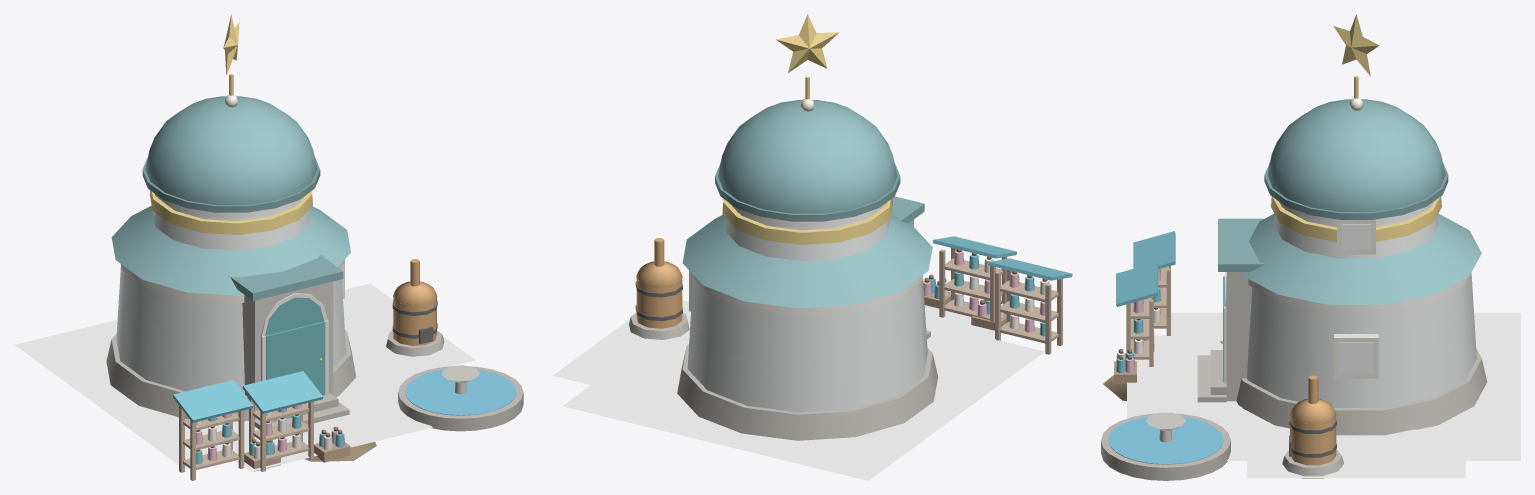
File: spa_4.glb
The picture shows the model from 3 angles, left to right: view 1: azimuth 30°, elevation 25°; view 2: azimuth 150°, elevation 25°; view 3: azimuth 270°, elevation 25°; orthographic projection. The views are drawn at different scales.
Visible parts, largest first — view 1: body4, spa_4, body3, body2, body; view 2: body4, spa_4, body3, body2, body; view 3: body4, spa_4, body3.
Part boxes in pixels (<box>): body4: <box>106,15,523,480</box>; spa_4: <box>15,283,475,471</box>; body3: <box>196,404,350,471</box>; body2: <box>196,414,301,444</box>; body: <box>196,433,301,464</box>; body4: <box>629,14,1072,440</box>; spa_4: <box>552,300,1044,480</box>; body3: <box>923,249,1049,330</box>; body2: <box>954,272,1045,315</box>; body: <box>954,292,1045,336</box>; body4: <box>1101,14,1487,480</box>; spa_4: <box>1127,312,1520,478</box>; body3: <box>1114,269,1160,384</box>.
Size of the model in its own units: 2.69 by 2.74 by 2.8.
